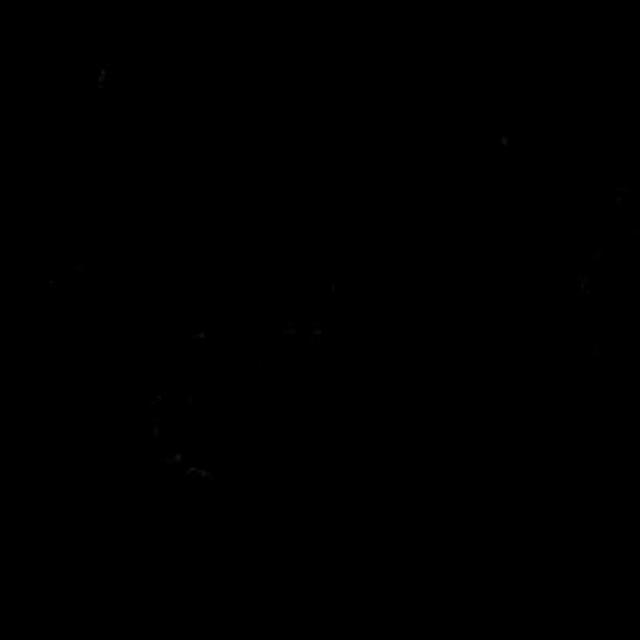Manhole: (88, 22, 556, 631)
